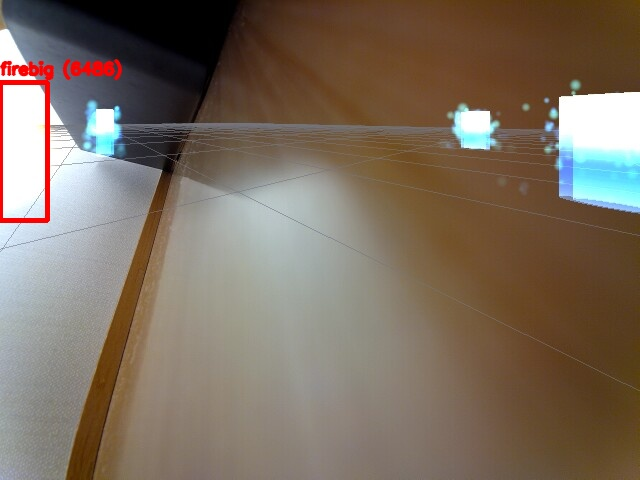firebig: (0, 82, 47, 220)
